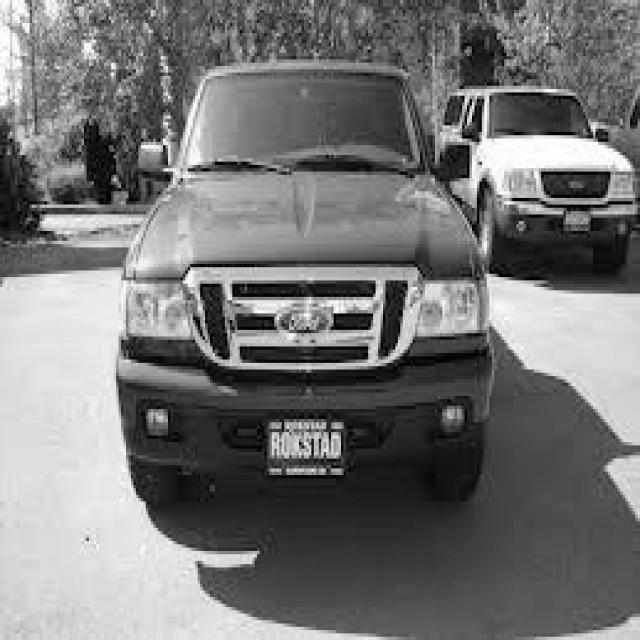car: (114, 56, 494, 505), (435, 82, 637, 274)
